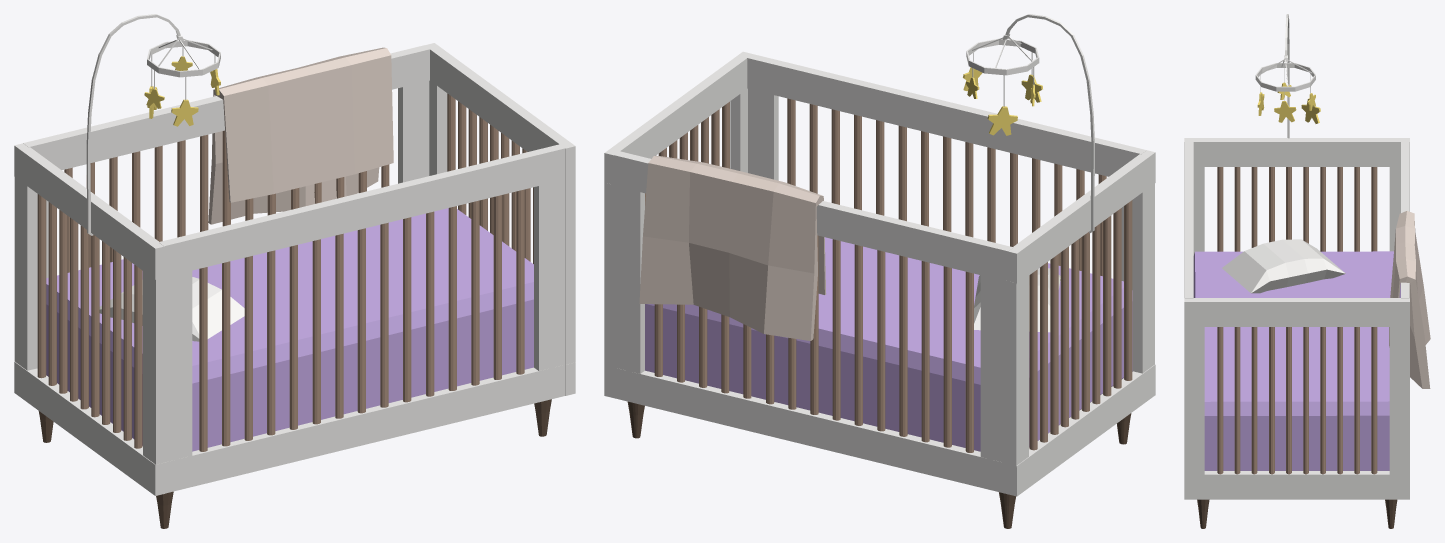
File: Crib.fbx
3 views of the same model, side by side, from view 1: azimuth 30°, elevation 25°; view 2: azimuth 150°, elevation 25°; view 3: azimuth 270°, elevation 25° (orthographic). The views are drawn at different scales.
Visible parts, largest first — view 1: Crib; view 2: Crib; view 3: Crib.
Boxes of the visible parts, x1,y1,x2,y2 form: Crib: (14, 14, 575, 528); Crib: (604, 14, 1155, 528); Crib: (1184, 14, 1430, 528).
Size of the model in its own units: 198 by 125 by 209.
